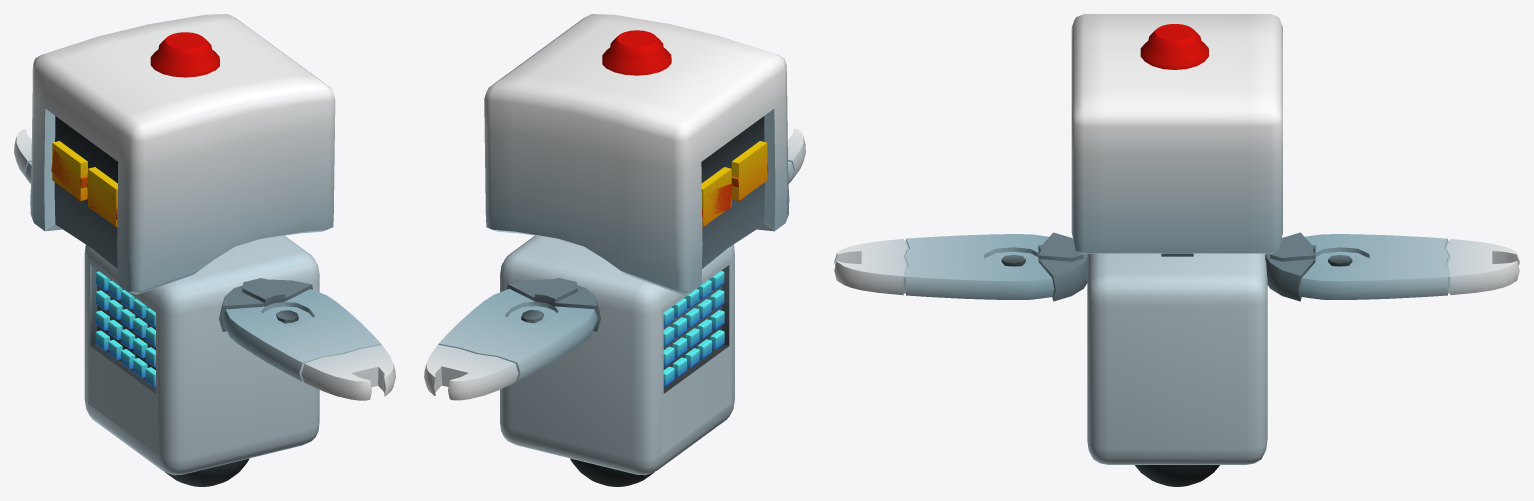
File: RobotBueno.fbx
3 views of the same model, side by side, from view 1: azimuth 30°, elevation 25°; view 2: azimuth 150°, elevation 25°; view 3: azimuth 270°, elevation 25° (orthographic).
Parts seen in each view (by area): view 1: Cabeza, Torso, BrazoL, Ojos1, Antena, Ojos, Brazo; view 2: Cabeza, Torso, Brazo, Ojos1, Antena, BrazoL, Ojos; view 3: Cabeza, Torso, BrazoL, Brazo, Antena.
Part boxes in pixels (bbox=[...]): Cabeza: bbox=[30, 14, 335, 294]; Torso: bbox=[84, 235, 319, 486]; BrazoL: bbox=[219, 278, 395, 400]; Ojos1: bbox=[52, 141, 117, 226]; Antena: bbox=[150, 32, 219, 77]; Ojos: bbox=[51, 149, 117, 219]; Brazo: bbox=[14, 129, 31, 183]; Cabeza: bbox=[484, 14, 789, 294]; Torso: bbox=[500, 235, 734, 486]; Brazo: bbox=[424, 278, 600, 400]; Ojos1: bbox=[701, 141, 767, 226]; Antena: bbox=[602, 30, 671, 75]; BrazoL: bbox=[787, 128, 805, 183]; Ojos: bbox=[702, 163, 768, 219]; Cabeza: bbox=[1071, 14, 1282, 253]; Torso: bbox=[1087, 253, 1267, 486]; BrazoL: bbox=[834, 232, 1088, 301]; Brazo: bbox=[1265, 232, 1519, 301]; Antena: bbox=[1140, 24, 1208, 69].
Bounding box in the file's own units: 64.95 × 135 × 190.
